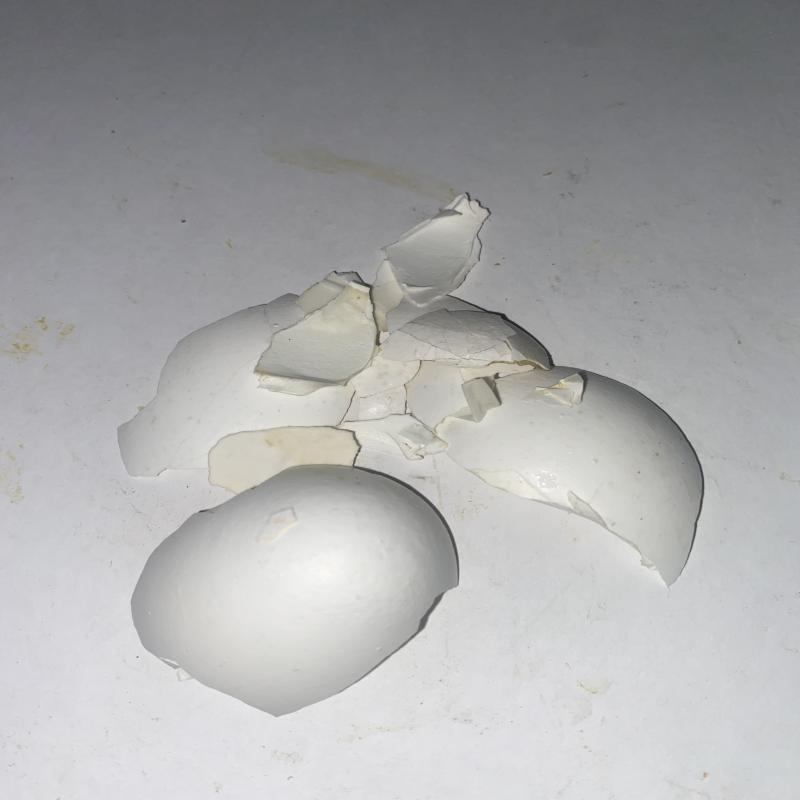egg shell: (131, 465, 460, 718), (431, 367, 705, 587), (119, 270, 369, 476), (344, 310, 553, 459), (373, 192, 488, 332), (208, 428, 360, 493)
